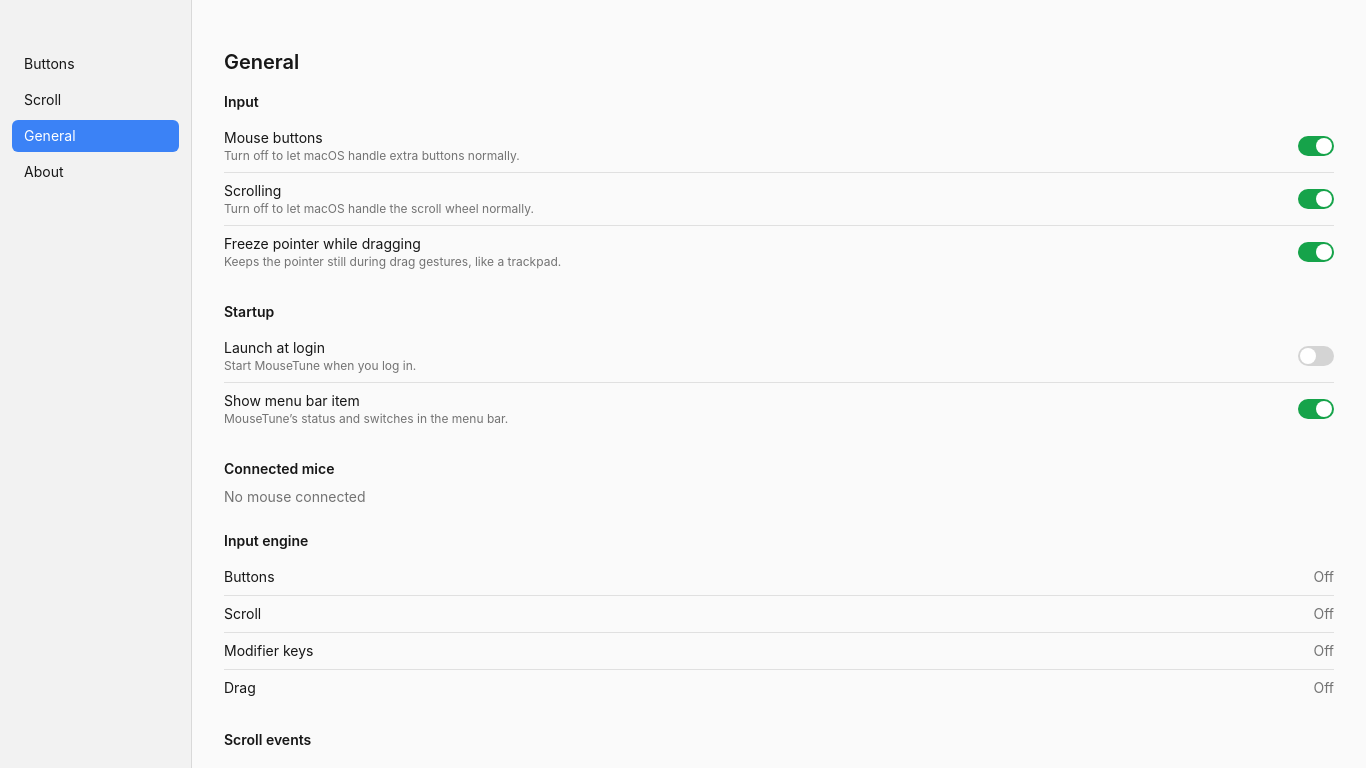
Scenario: General page: startup › turns launch at login on and shows what macOS did
Step 1. Click the switch named "Launch at login" → (1316, 356), box [1298,346,1334,366]
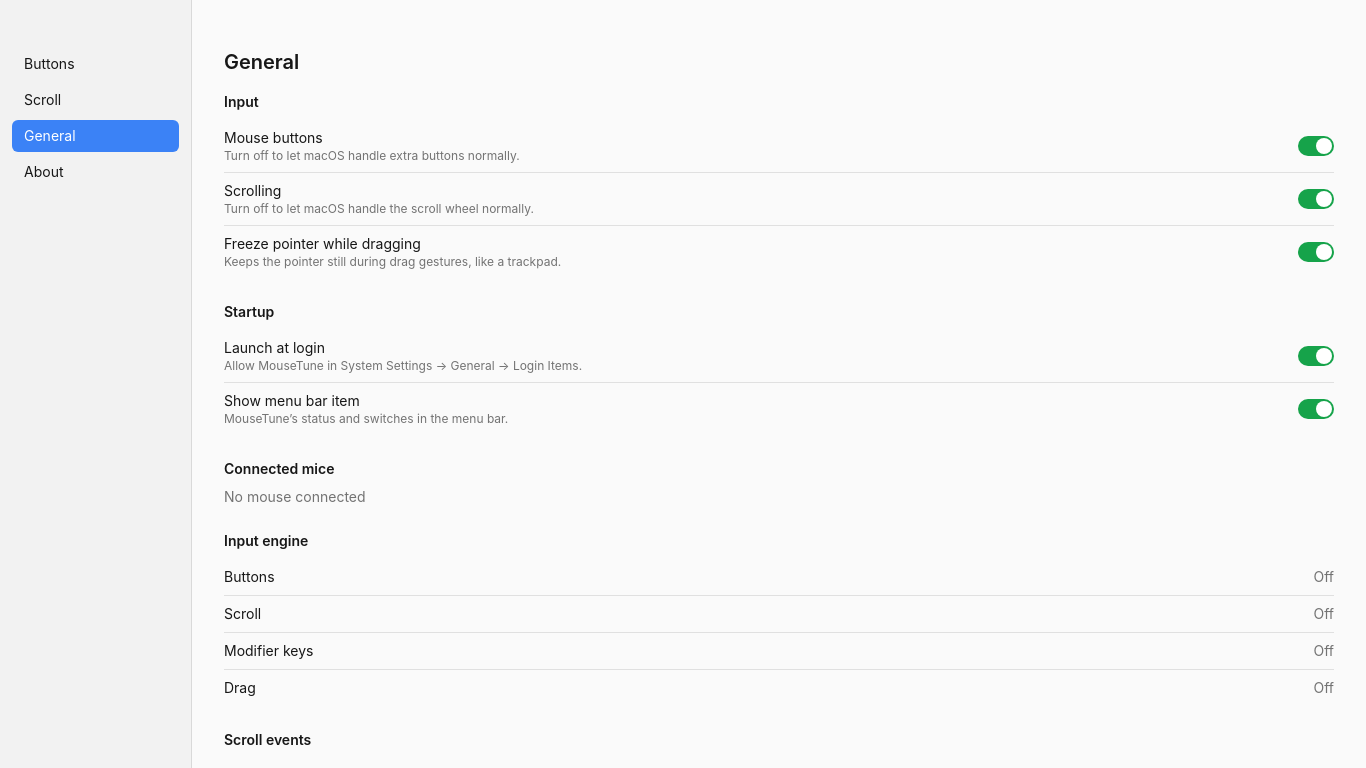
Check: the text "Allow MouseTune in System Settings → General → Login Items." is shown, box [224,358,582,374]
